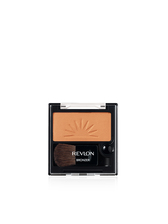other: (35, 96, 130, 183)
